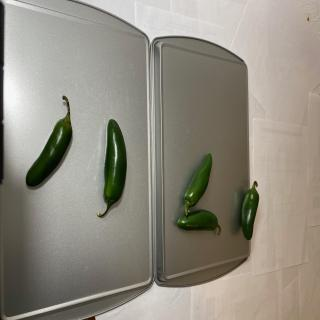Chilli: (177, 152, 221, 236)
Tomato: (26, 95, 72, 187), (97, 119, 127, 217), (177, 209, 221, 236), (241, 181, 259, 240)
